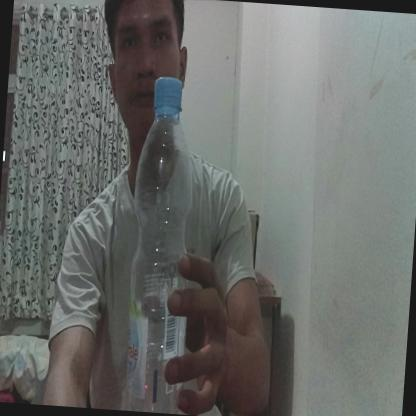plastic_bottles: (118, 73, 205, 415)
